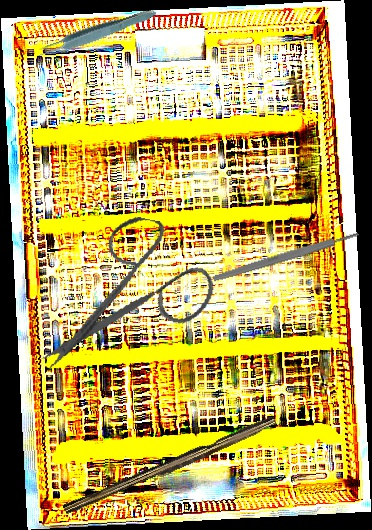Iris Scissors: (38, 203, 226, 398)
Scalpel Handle: (62, 412, 279, 521), (212, 229, 360, 284)
Tissue Forceps: (33, 3, 159, 62)
